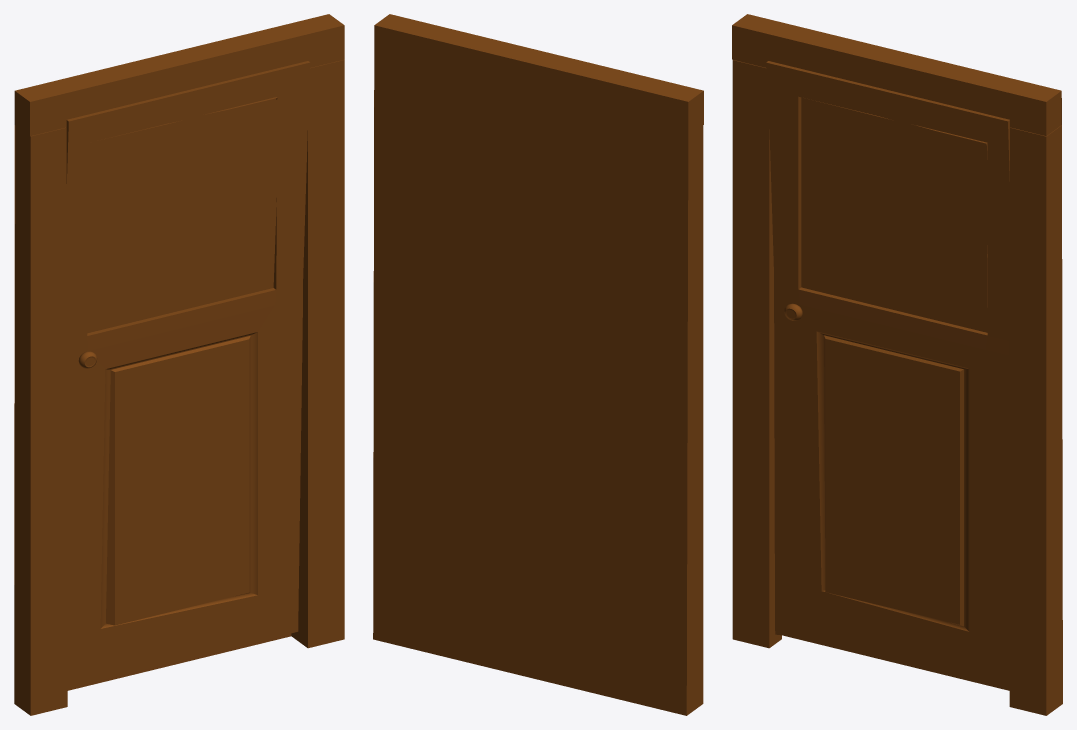
The model's file is door.fbx.
3 views of the same model, side by side, from view 1: azimuth 30°, elevation 25°; view 2: azimuth 150°, elevation 25°; view 3: azimuth 330°, elevation 25° (orthographic).
Visible parts, largest first — view 1: Object004; view 2: Object004; view 3: Object004.
Part boxes in pixels (x1,y1,x2,y2): Object004: (14,14,344,715); Object004: (373,14,703,715); Object004: (732,14,1062,715).
Bounding box in the file's own units: 408 × 760 × 42.12.
